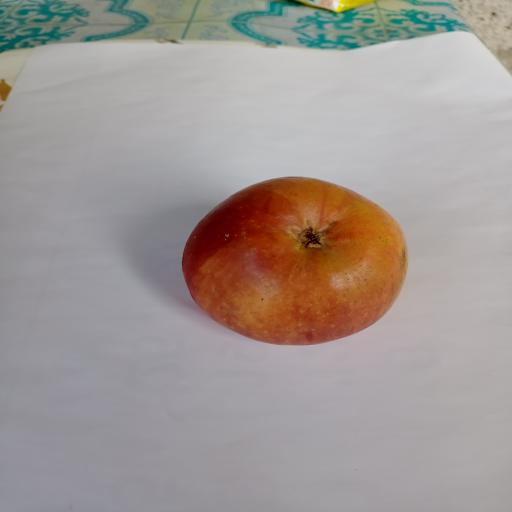apple-ripe: (165, 161, 427, 368)
